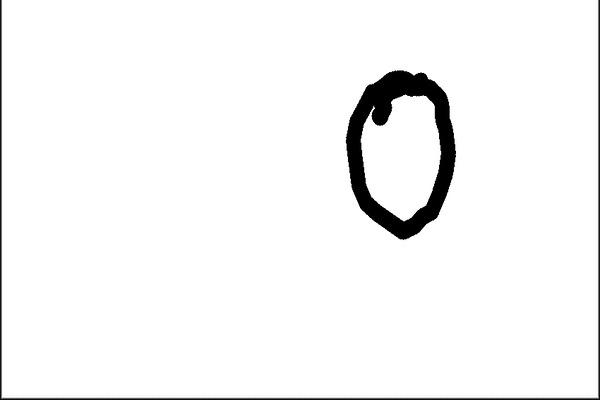O: (330, 56, 460, 243)
